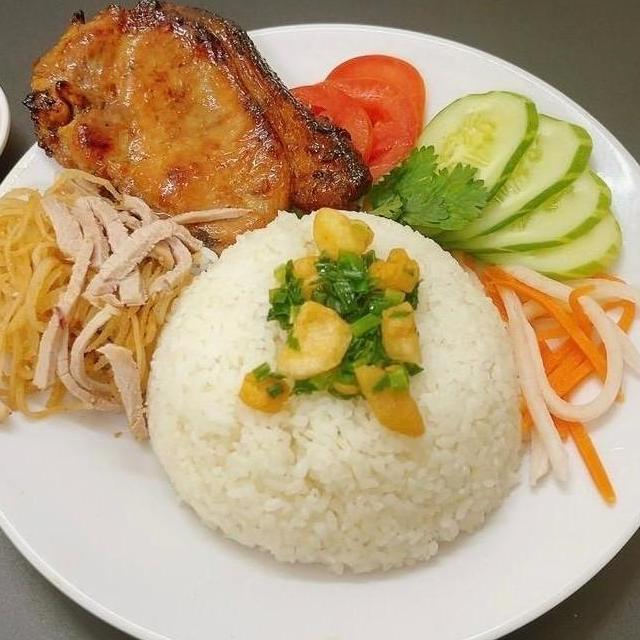bi: (0, 164, 259, 444)
com: (136, 205, 529, 580)
com suon: (0, 13, 640, 614)
dua chua: (451, 239, 640, 510)
suon: (20, 0, 377, 259)
